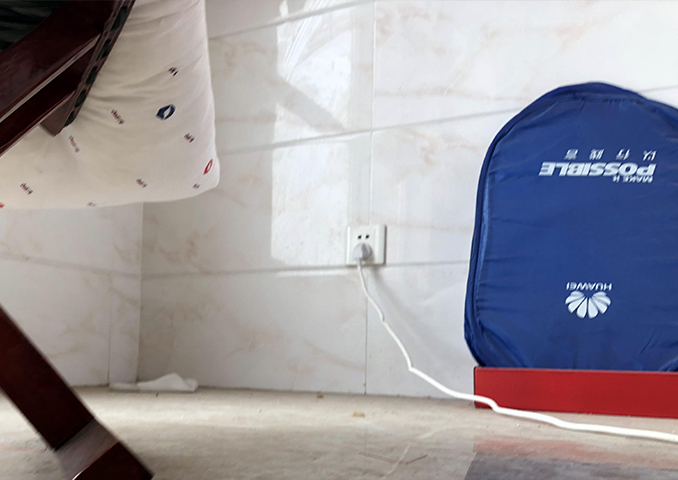socks: (109, 371, 199, 393)
wire: (351, 239, 674, 444)
